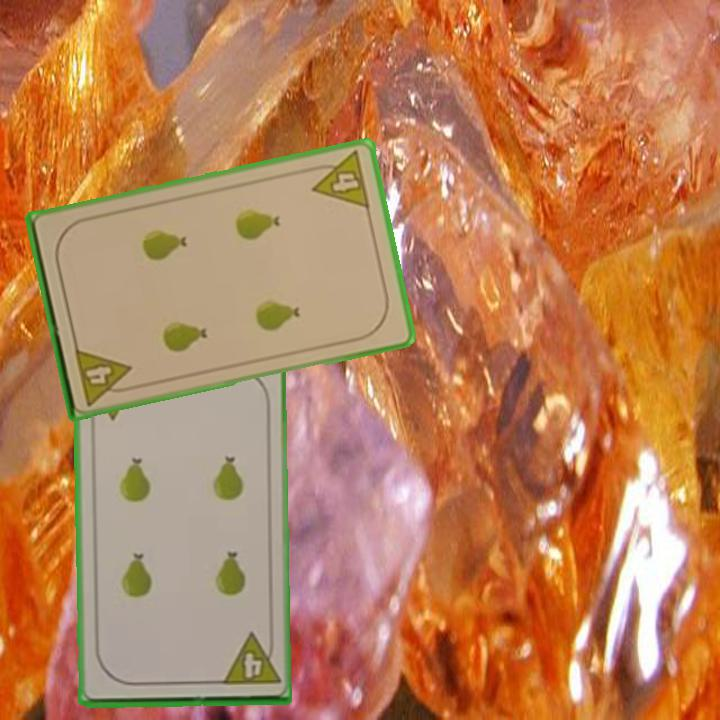4p: (305, 147, 373, 212), (71, 344, 137, 408), (218, 630, 283, 688)
